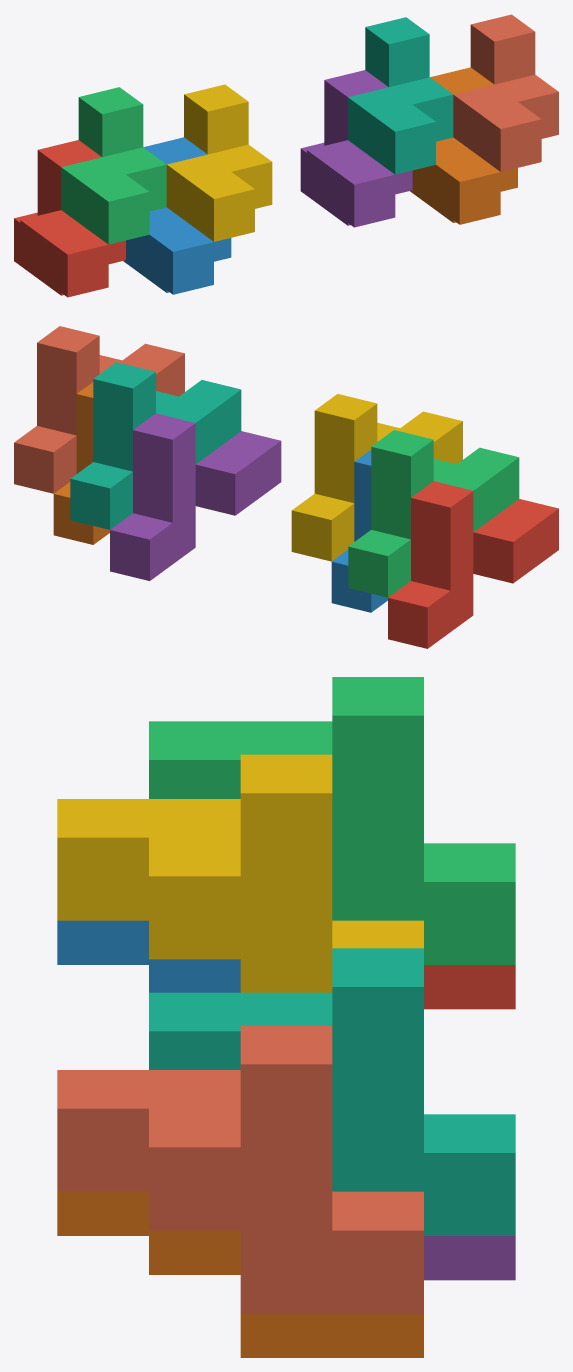
File: tiling.obj
3 views of the same model, one above another, from view 1: azimuth 30°, elevation 25°; view 2: azimuth 150°, elevation 25°; view 3: azimuth 270°, elevation 25° (orthographic). The views are drawn at different scales.
Parts seen in each view (by area): view 1: copy_1_domain_3, copy_1_domain_8, copy_1_domain_4, copy_1_domain_7, copy_1_domain_1, copy_1_domain_5, copy_1_domain_2, copy_1_domain_6; view 2: copy_1_domain_5, copy_1_domain_1, copy_1_domain_7, copy_1_domain_3, copy_1_domain_4, copy_1_domain_8, copy_1_domain_2, copy_1_domain_6; view 3: copy_1_domain_8, copy_1_domain_4, copy_1_domain_3, copy_1_domain_7, copy_1_domain_6, copy_1_domain_2, copy_1_domain_1, copy_1_domain_5.
Part boxes in pixels (x1,y1,x2,y2): copy_1_domain_3: [61, 87, 166, 244]; copy_1_domain_8: [453, 14, 558, 171]; copy_1_domain_4: [166, 84, 272, 241]; copy_1_domain_7: [348, 17, 453, 174]; copy_1_domain_1: [14, 140, 125, 297]; copy_1_domain_5: [300, 70, 412, 227]; copy_1_domain_2: [123, 137, 231, 294]; copy_1_domain_6: [410, 67, 517, 224]; copy_1_domain_5: [110, 413, 281, 580]; copy_1_domain_1: [388, 481, 558, 648]; copy_1_domain_7: [70, 362, 241, 529]; copy_1_domain_3: [348, 430, 519, 597]; copy_1_domain_4: [291, 394, 462, 561]; copy_1_domain_8: [14, 326, 184, 493]; copy_1_domain_2: [331, 450, 387, 612]; copy_1_domain_6: [53, 382, 109, 544]; copy_1_domain_8: [57, 1025, 423, 1313]; copy_1_domain_4: [57, 754, 423, 992]; copy_1_domain_3: [149, 677, 515, 964]; copy_1_domain_7: [149, 948, 515, 1235]; copy_1_domain_6: [57, 1191, 423, 1357]; copy_1_domain_2: [57, 920, 240, 992]; copy_1_domain_1: [424, 965, 515, 1009]; copy_1_domain_5: [424, 1236, 515, 1280].
Size of the model in its own units: 12 by 4 by 5.
